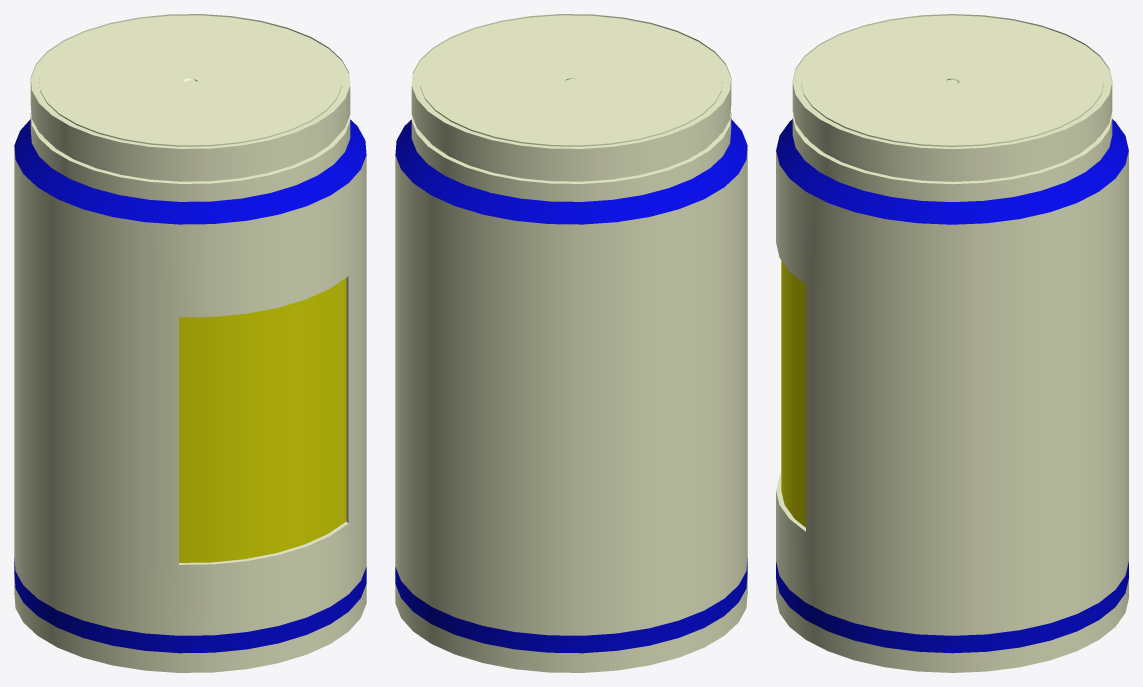
The model's file is pills.fbx.
3 views of the same model, side by side, from view 1: azimuth 30°, elevation 25°; view 2: azimuth 150°, elevation 25°; view 3: azimuth 270°, elevation 25° (orthographic).
Visible parts, largest first — view 1: Cylinder; view 2: Cylinder; view 3: Cylinder.
Part boxes in pixels (left/top/right/bottom): Cylinder: left=14, top=14, right=366, bottom=672; Cylinder: left=395, top=14, right=747, bottom=672; Cylinder: left=776, top=14, right=1128, bottom=672.
Bounding box in the file's own units: 5.18 × 8.37 × 5.18.
